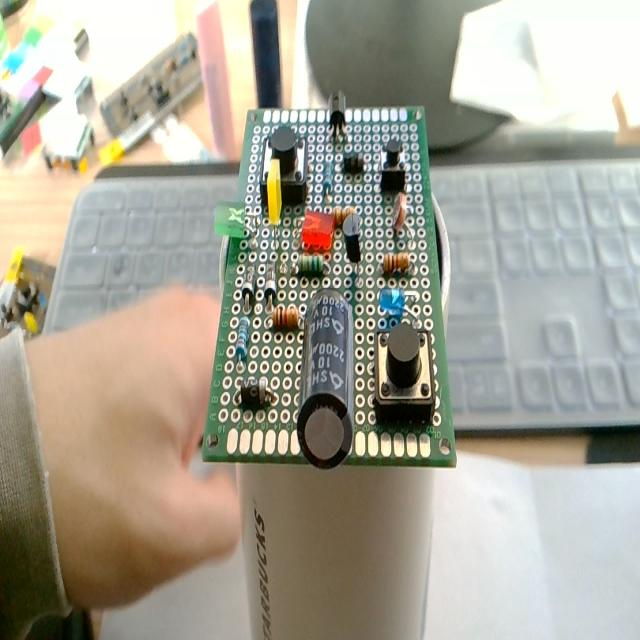Electrolytic capacitor: (296, 290, 356, 472)
cds: (342, 212, 362, 262), (392, 192, 406, 230)
diode: (239, 378, 274, 410), (242, 263, 257, 301), (264, 259, 276, 302), (344, 150, 364, 174), (322, 158, 334, 196)
led: (377, 288, 424, 323), (302, 209, 335, 252), (213, 202, 247, 240), (267, 158, 282, 226)
resistor: (272, 306, 300, 331), (235, 316, 250, 358), (384, 252, 410, 274), (298, 253, 324, 275), (333, 205, 355, 226)
switch: (373, 324, 435, 427), (260, 128, 308, 208), (378, 136, 406, 194)
transistor: (328, 90, 347, 137)
